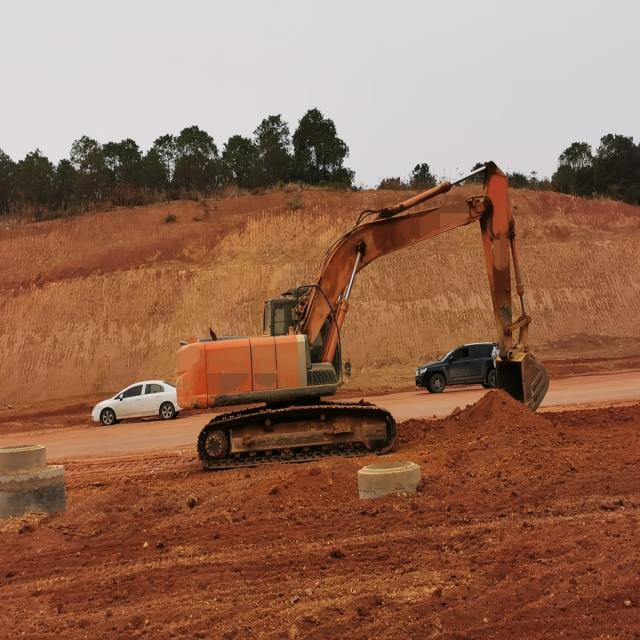excavator: (174, 159, 549, 468)
